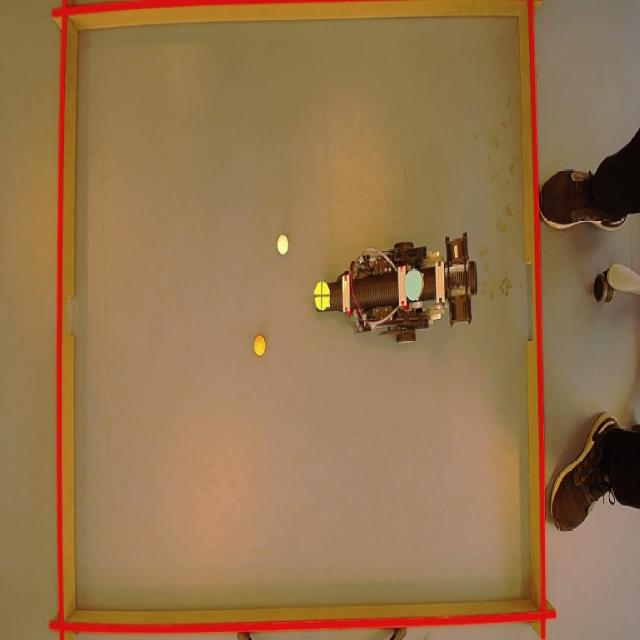orange: (254, 336, 266, 355)
robot: (317, 240, 484, 347)
robot-front: (314, 279, 330, 312)
robot-rear: (404, 264, 422, 300)
white: (274, 234, 288, 254)
